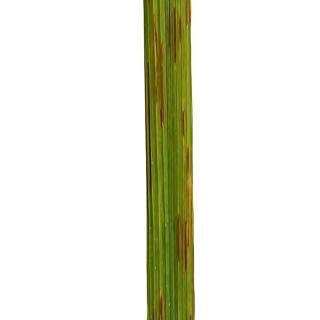Bercak-Cokelat-Sempit: (144, 24, 168, 118), (164, 7, 186, 62), (172, 207, 191, 265), (178, 145, 194, 183), (176, 106, 193, 134), (152, 295, 166, 320), (183, 2, 195, 27), (187, 314, 192, 320)
